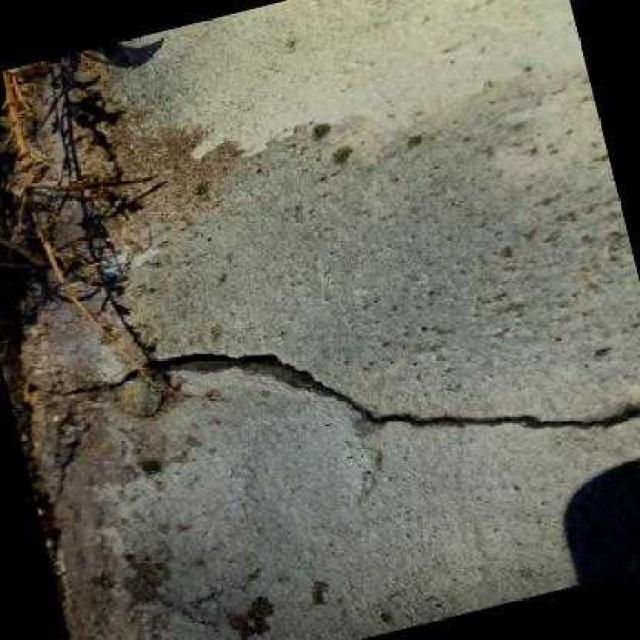D00: (58, 351, 640, 424)
